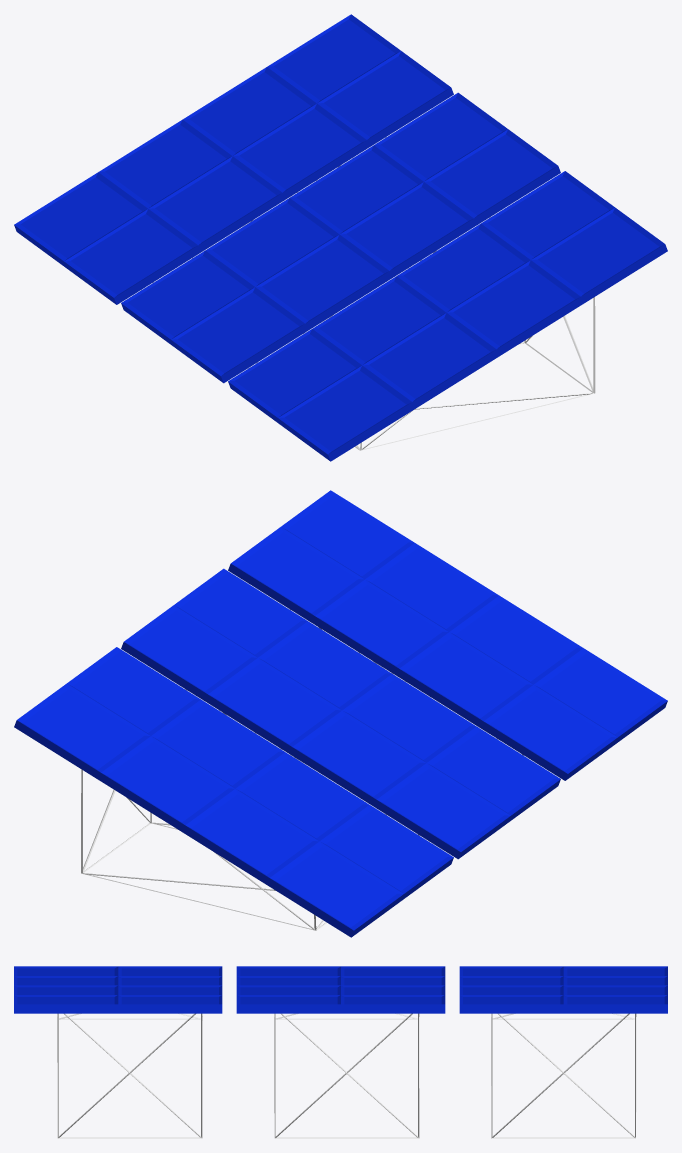
The model's file is panel_solar.fbx.
3 renders of one model, top to bottom at view 1: azimuth 30°, elevation 25°; view 2: azimuth 150°, elevation 25°; view 3: azimuth 270°, elevation 25°, orthographic. The views are drawn at different scales.
Parts seen in each view (by area): view 1: Cube.001, Cube; view 2: Cube.001, Cube; view 3: Cube.001, Cube.
Boxes of the visible parts, x1,y1,x2,y2 form: Cube.001: (14,14,667,461); Cube: (141,137,595,450); Cube.001: (14,490,667,937); Cube: (81,609,540,930); Cube.001: (14,966,667,1013); Cube: (57,1013,636,1138).
Bounding box in the file's own units: 569 × 244 × 911.
